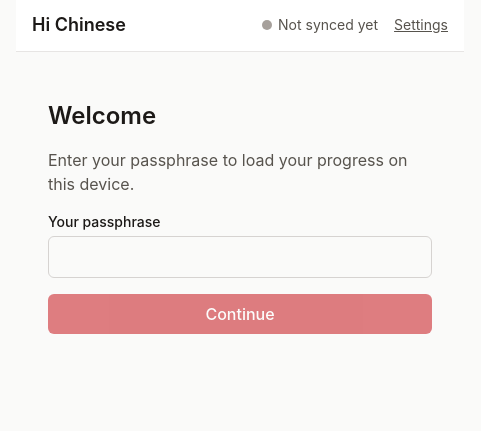
it: app shell › redirects a fresh device to setup, pulls progress after the passphrase, and shows the path
Type "test-passphrase" into the password field labelled "Your passphrase" at {"x": 240, "y": 257}, box [48,236,432,278]
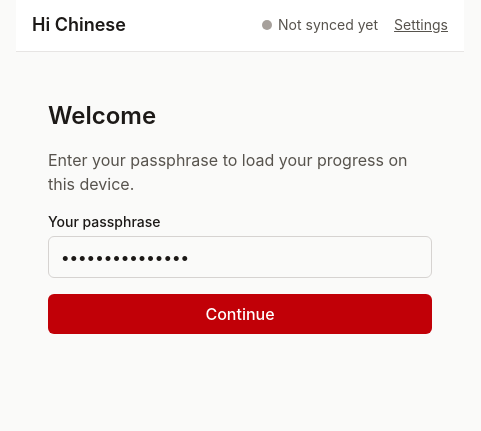
Click the button "Continue" at {"x": 240, "y": 314}, box [48,294,432,334]
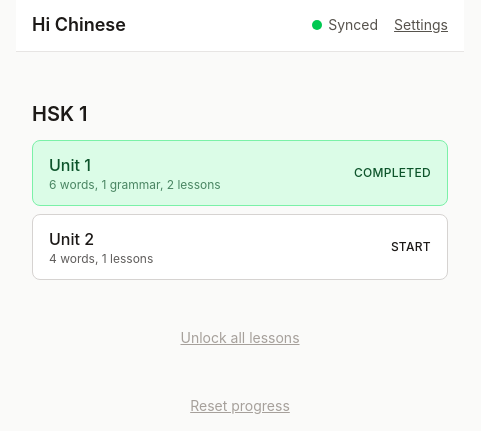
Check: the heading "HSK 1" is shown, box [32,102,88,126]
Check: the text with test id "sync-status" reads "Synced", box [328,16,378,33]
